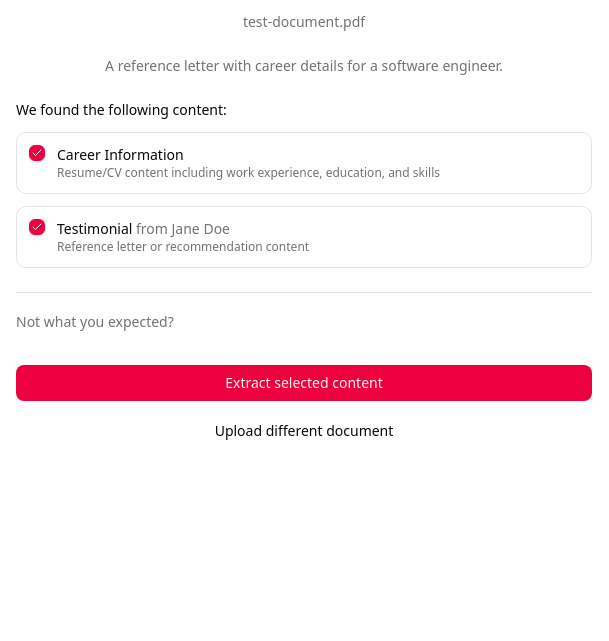
Test case: DetectionResults › Correction UI › applies 'just a reference letter' correction
This screenshot has width=609, height=641.
What coordinates should you click on to do the following:
click the button "Not what you expected?"
I would click on:
 (95, 322)
Its box is [16,312,174,332].
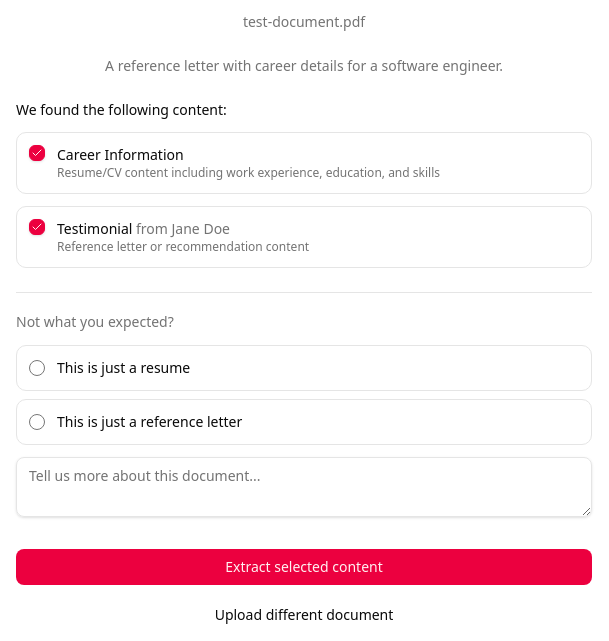
What coordinates should you click on to do the following:
click the radio button labelled "This is just a reference letter"
I would click on:
 (37, 422)
Its box is [29,414,45,430].
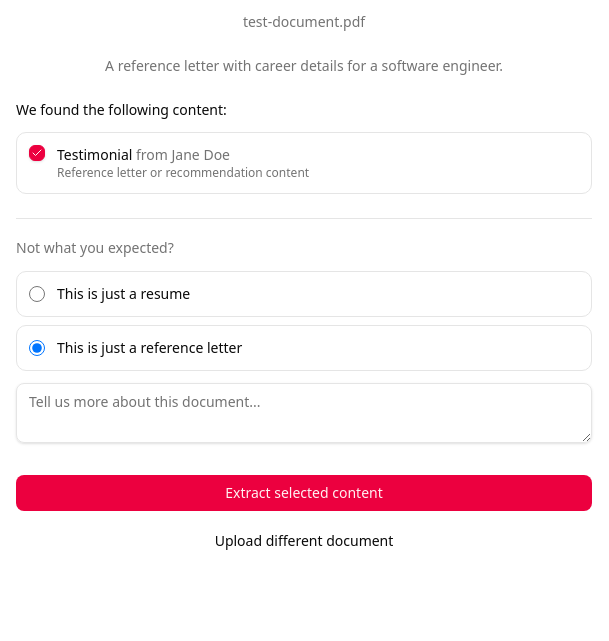
expect the text "Career Information" is gone: met
